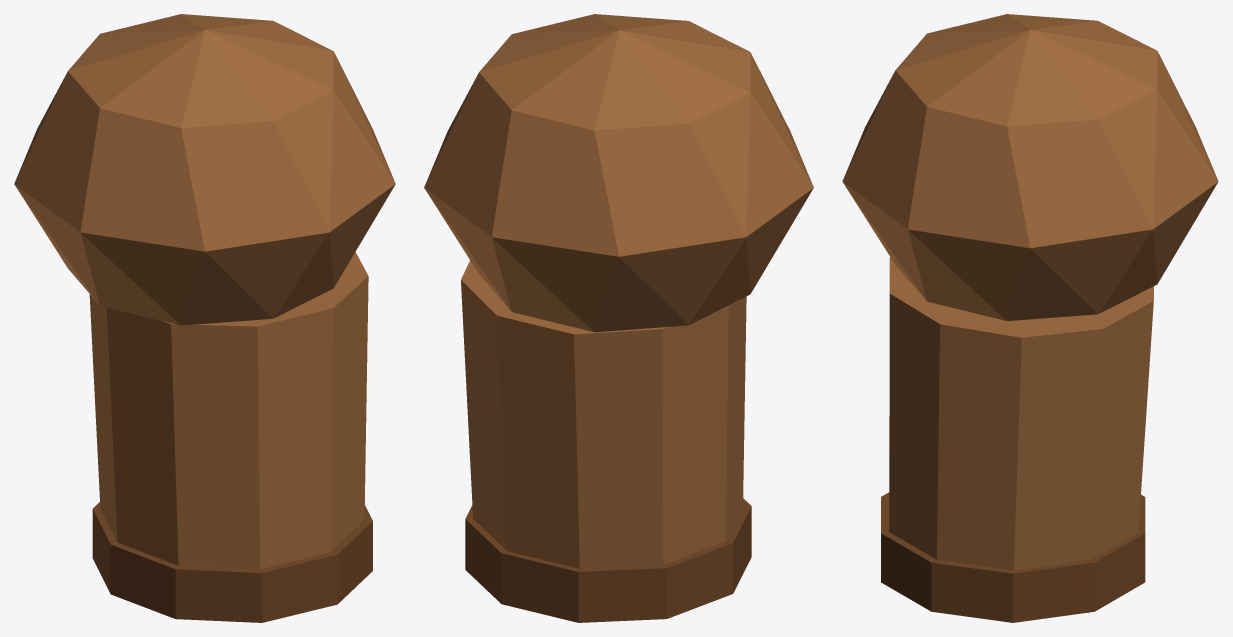
File: gear_leather_body_arm_r.glb
3 views of the same model, side by side, from view 1: azimuth 30°, elevation 25°; view 2: azimuth 150°, elevation 25°; view 3: azimuth 270°, elevation 25° (orthographic). The views are drawn at different scales.
Parts seen in each view (by area): view 1: gear_leather_body_arm_r; view 2: gear_leather_body_arm_r; view 3: gear_leather_body_arm_r.
Boxes of the visible parts, left/top/right/bottom form: gear_leather_body_arm_r: left=14, top=14, right=395, bottom=622; gear_leather_body_arm_r: left=424, top=14, right=813, bottom=622; gear_leather_body_arm_r: left=842, top=14, right=1218, bottom=622.
Bounding box in the file's own units: 0.1707 × 0.267 × 0.1733.
